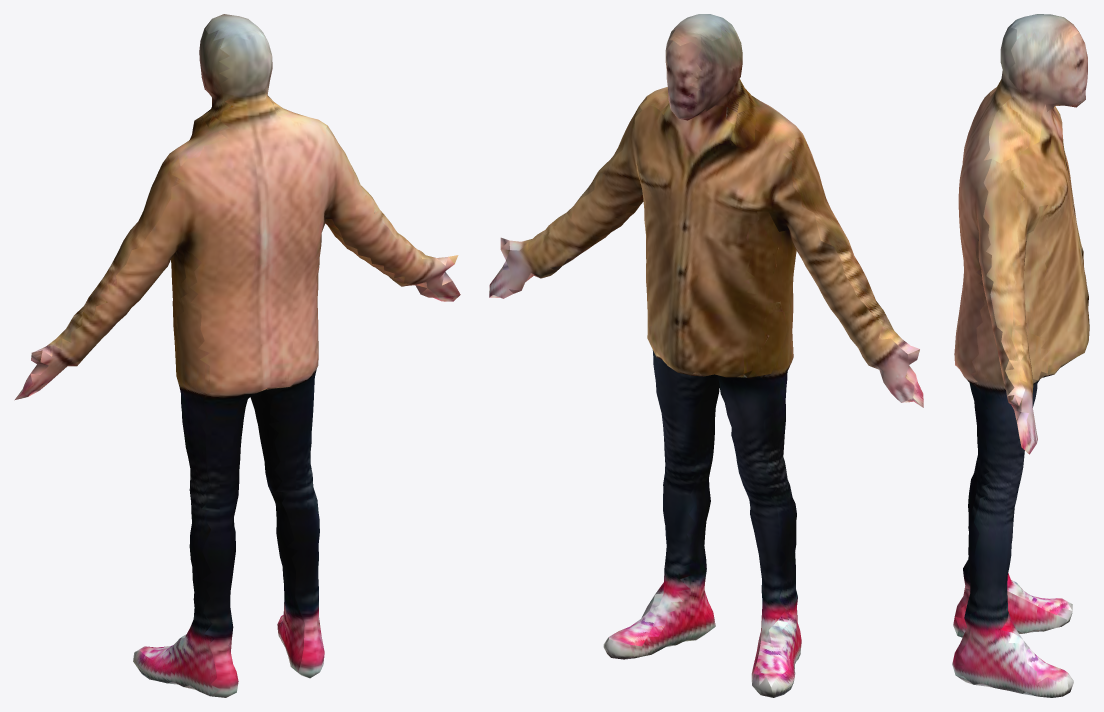
3 views of the same model, side by side, from view 1: azimuth 30°, elevation 25°; view 2: azimuth 150°, elevation 25°; view 3: azimuth 270°, elevation 25° (orthographic). The views are drawn at different scales.
Parts seen in each view (by area): view 1: world; view 2: world; view 3: world.
Boxes of the visible parts, left/top/right/bottom form: world: left=14, top=14, right=460, bottom=697; world: left=489, top=14, right=923, bottom=697; world: left=952, top=14, right=1089, bottom=697.
Bounding box in the file's own units: 0.7153 × 1 × 0.1941.
Materials: 1 (1 with a texture image).
